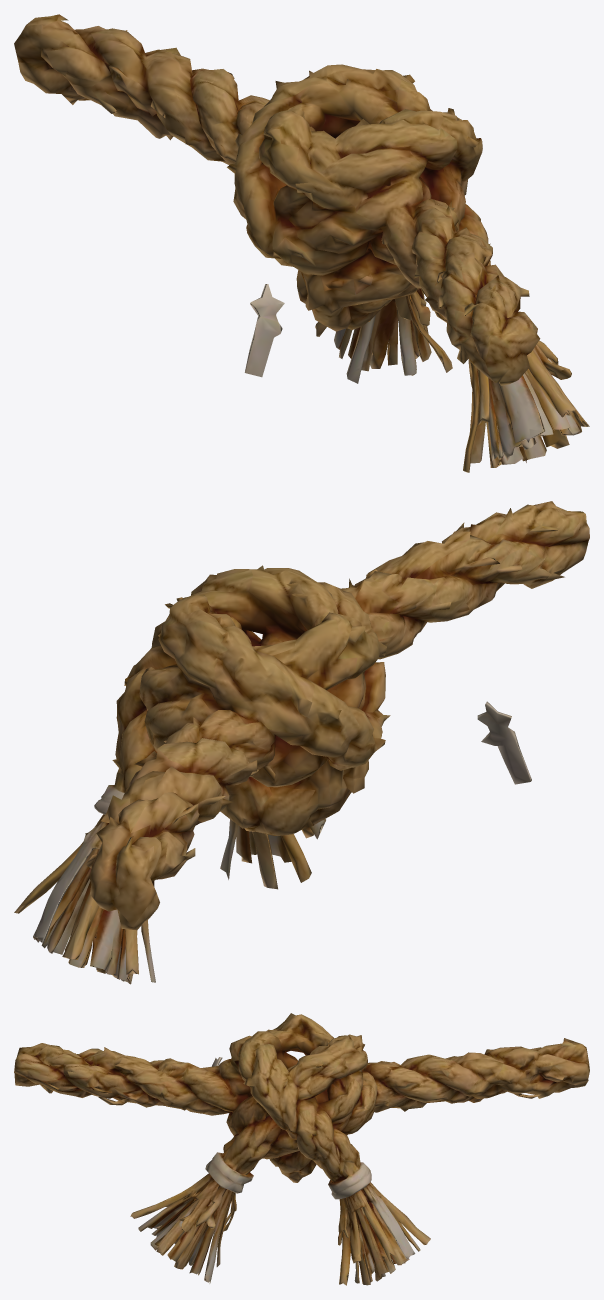
File: shimenawa-binding.glb
The picture shows the model from 3 angles, top to bottom: view 1: azimuth 30°, elevation 25°; view 2: azimuth 150°, elevation 25°; view 3: azimuth 270°, elevation 25°; orthographic projection. The views are drawn at different scales.
Parts seen in each view (by area): view 1: tripo_node_f5feb790-07c4-4e57-a171-d53b6c56e7dc; view 2: tripo_node_f5feb790-07c4-4e57-a171-d53b6c56e7dc; view 3: tripo_node_f5feb790-07c4-4e57-a171-d53b6c56e7dc.
Boxes of the visible parts, bbox=[...] form: tripo_node_f5feb790-07c4-4e57-a171-d53b6c56e7dc: bbox=[14, 14, 589, 472]; tripo_node_f5feb790-07c4-4e57-a171-d53b6c56e7dc: bbox=[14, 501, 589, 984]; tripo_node_f5feb790-07c4-4e57-a171-d53b6c56e7dc: bbox=[14, 1013, 589, 1285].
Size of the model in its own units: 0.4366 by 0.4179 by 1.
1 material, 1 textured.
